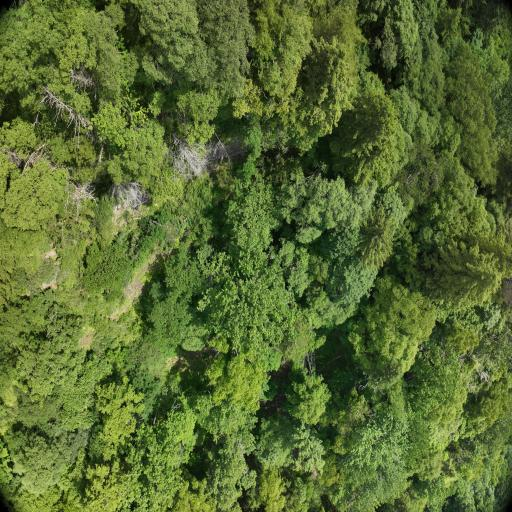dead-tree: (42, 68, 97, 138), (172, 137, 212, 179), (112, 179, 148, 211)
